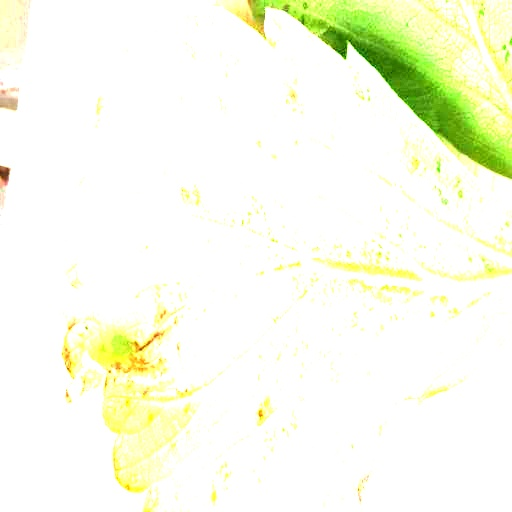Angular Leafspot: (59, 2, 511, 511)
